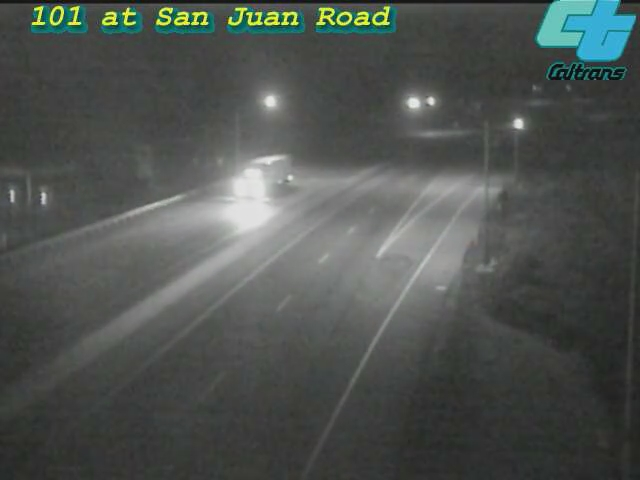vehicle: (222, 139, 302, 219), (491, 98, 541, 148)
